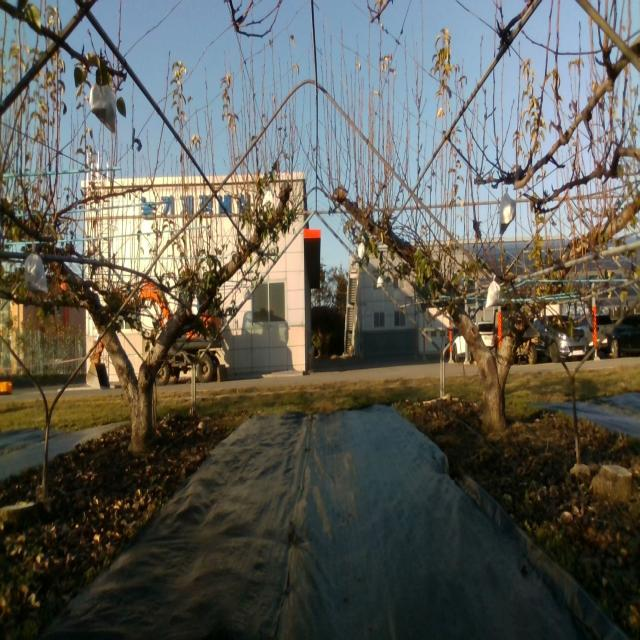pearbags: (89, 82, 117, 134), (23, 242, 49, 296), (498, 190, 517, 236), (486, 276, 502, 308), (262, 184, 273, 206)
